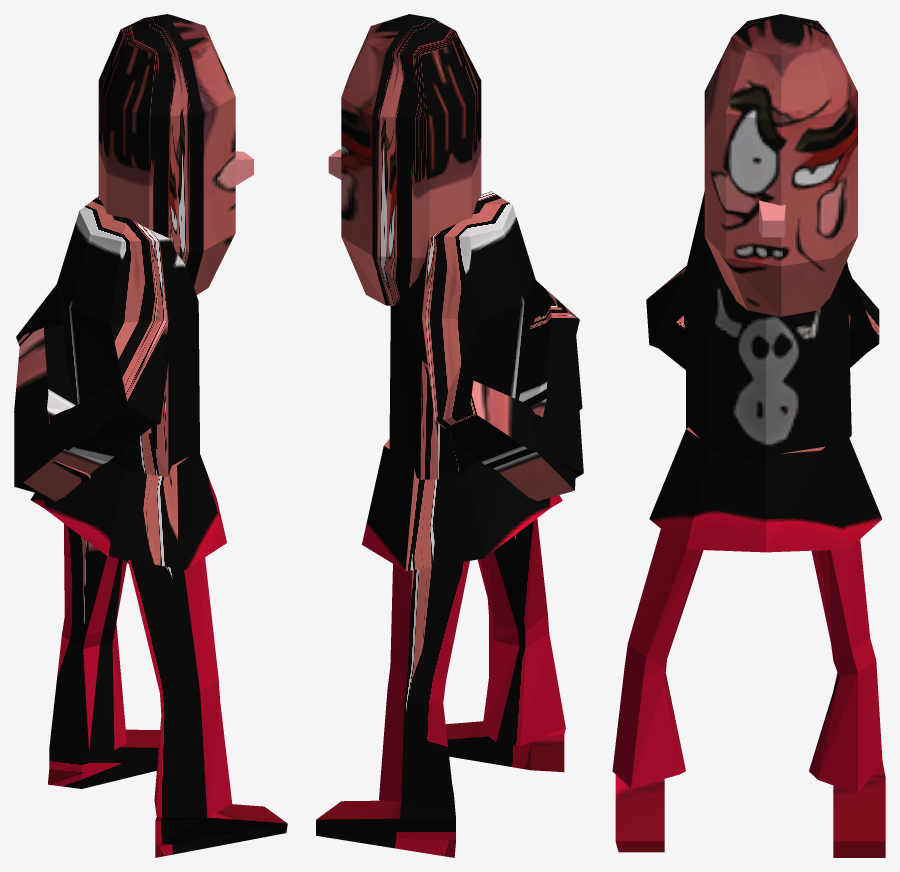
File: Bad1.glb
The picture shows the model from 3 angles, left to right: view 1: azimuth 30°, elevation 25°; view 2: azimuth 150°, elevation 25°; view 3: azimuth 270°, elevation 25°; orthographic projection. The views are drawn at different scales.
Parts seen in each view (by area): view 1: Bad1; view 2: Bad1; view 3: Bad1.
Part boxes in pixels (<box>): Bad1: <box>14,14,287,857</box>; Bad1: <box>316,14,583,857</box>; Bad1: <box>612,14,885,857</box>.
Bounding box in the file's own units: 25.99 × 82.15 × 24.72.
Materials: 1 (1 with a texture image).
